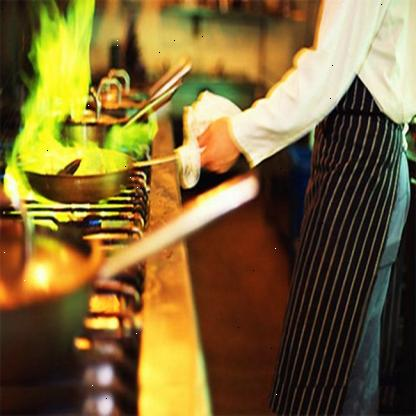fire: (2, 3, 155, 197)
